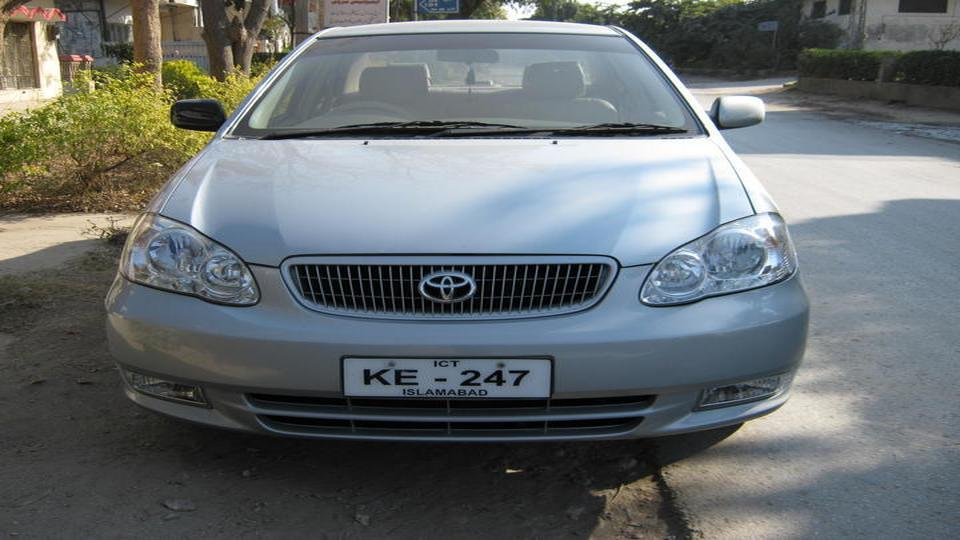NumberPlate: (336, 348, 578, 414)
